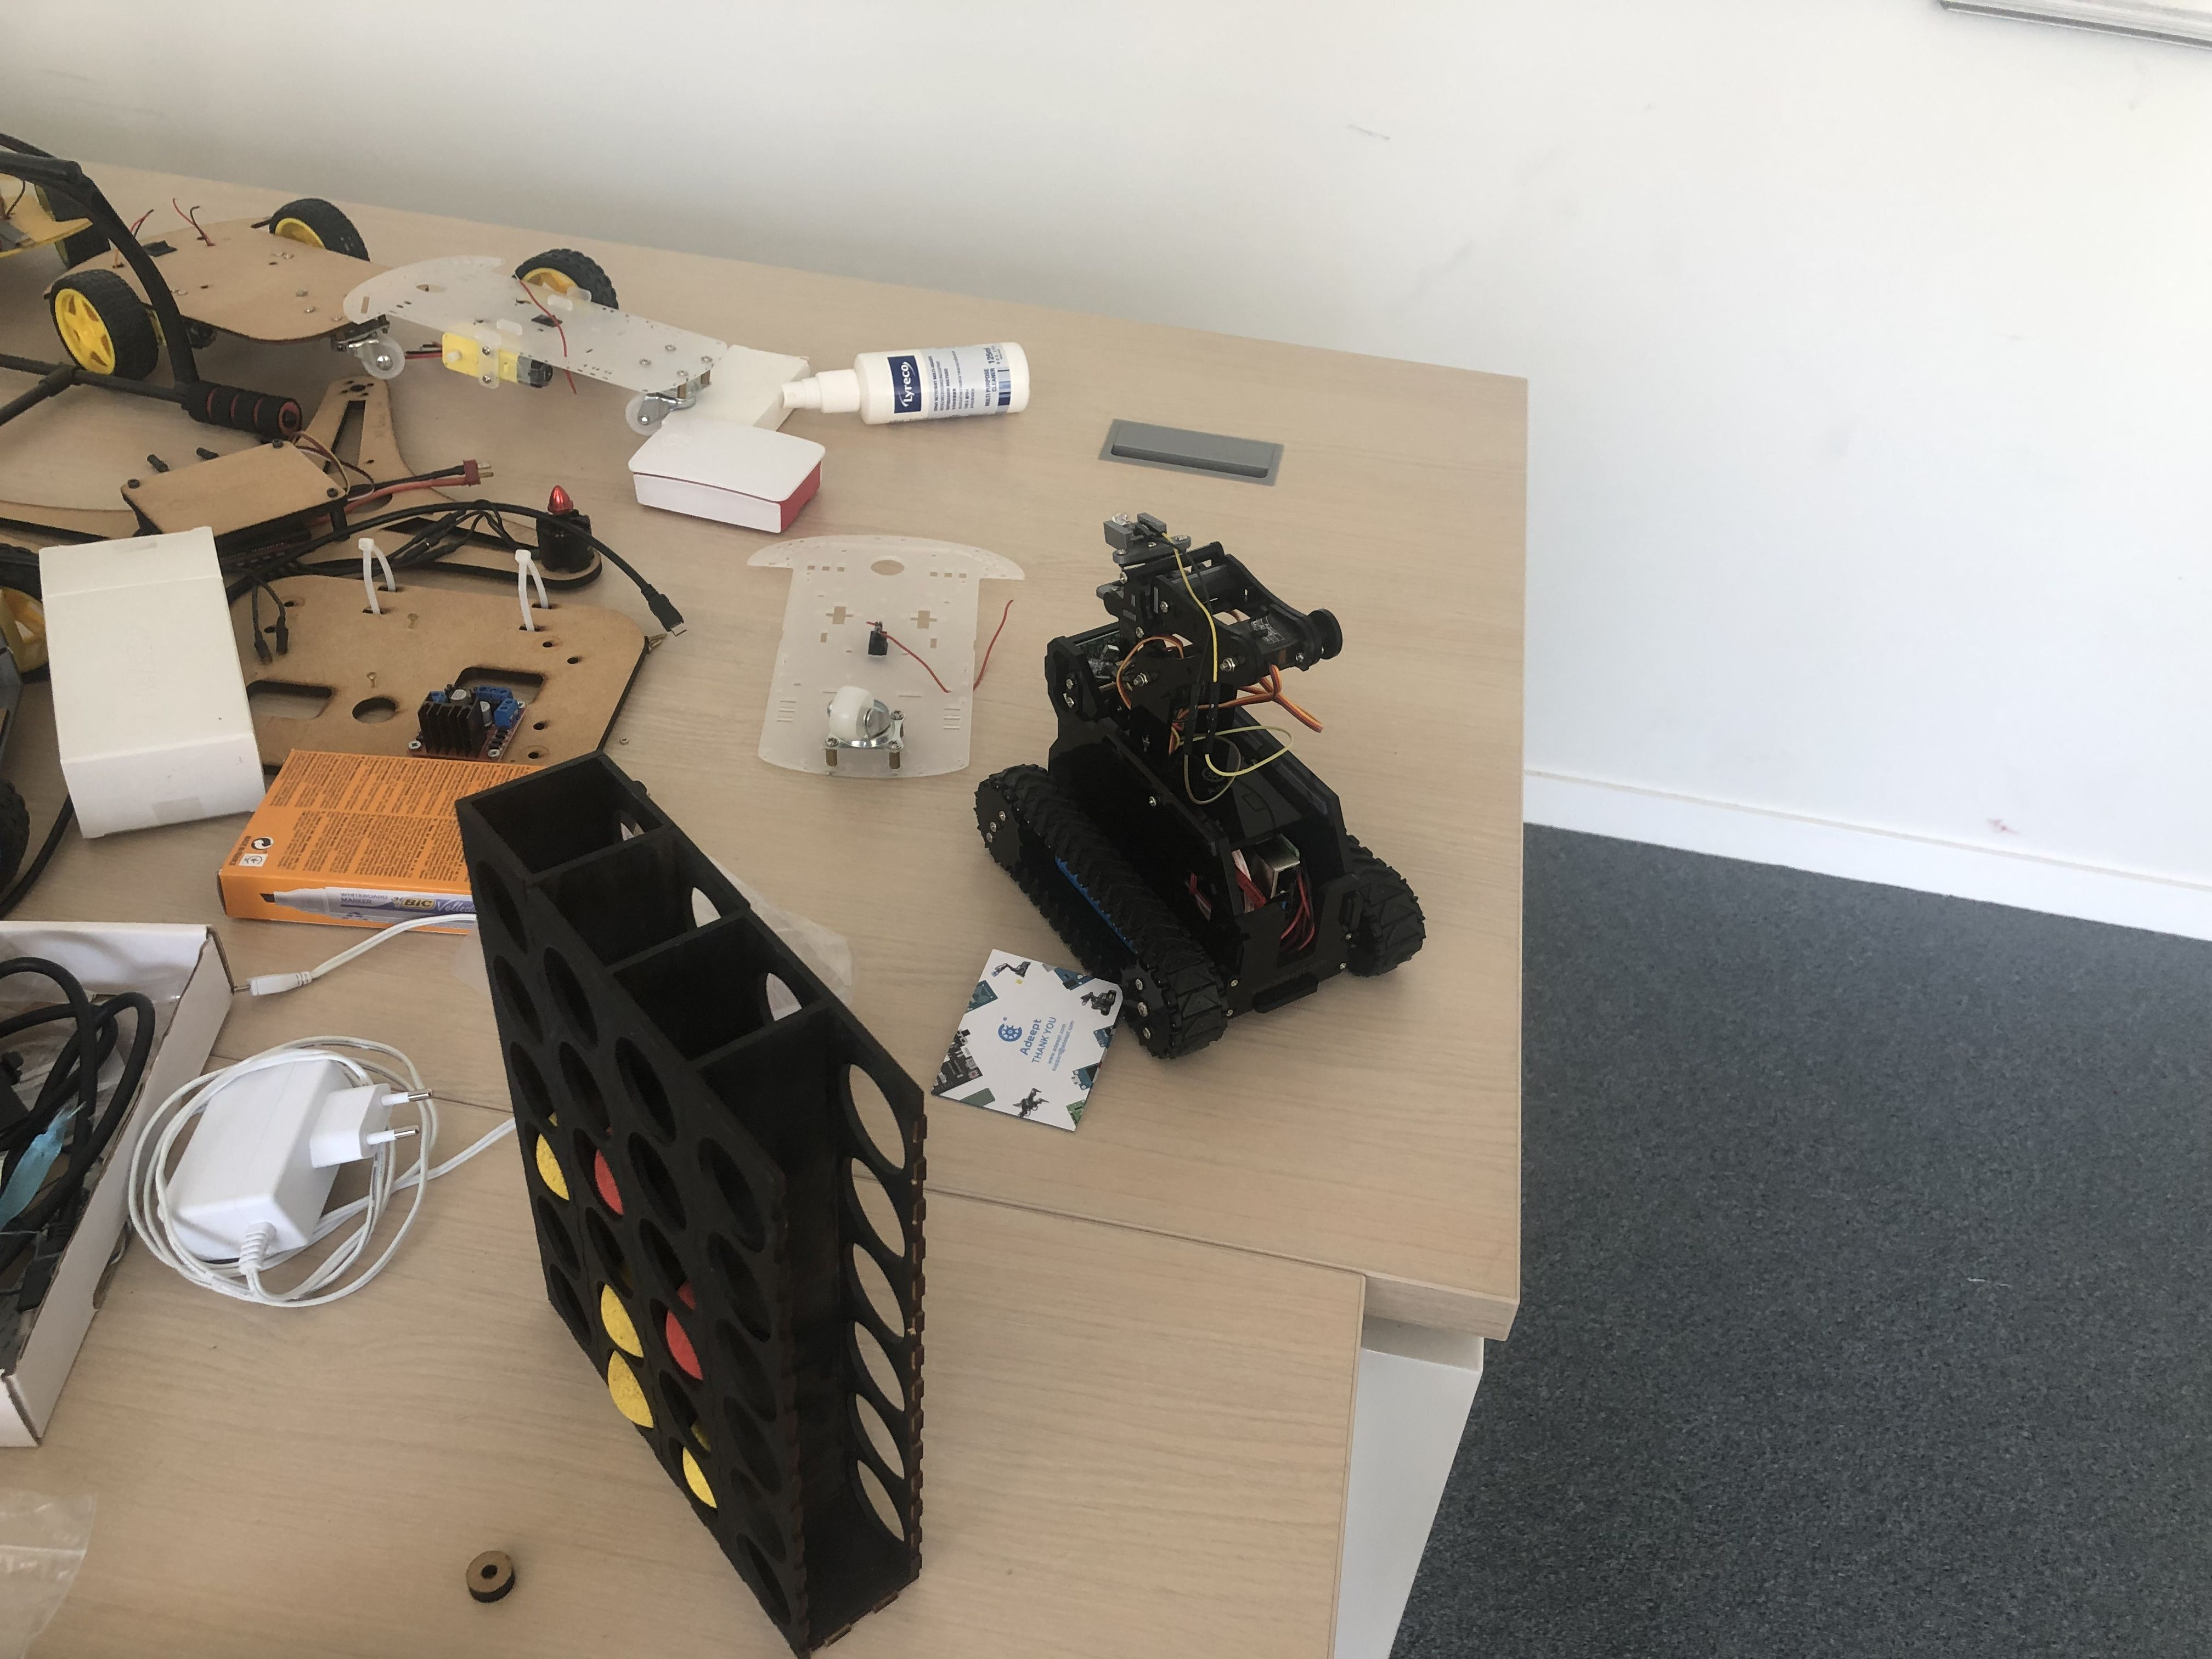rasptank: (972, 511, 1440, 1065)
